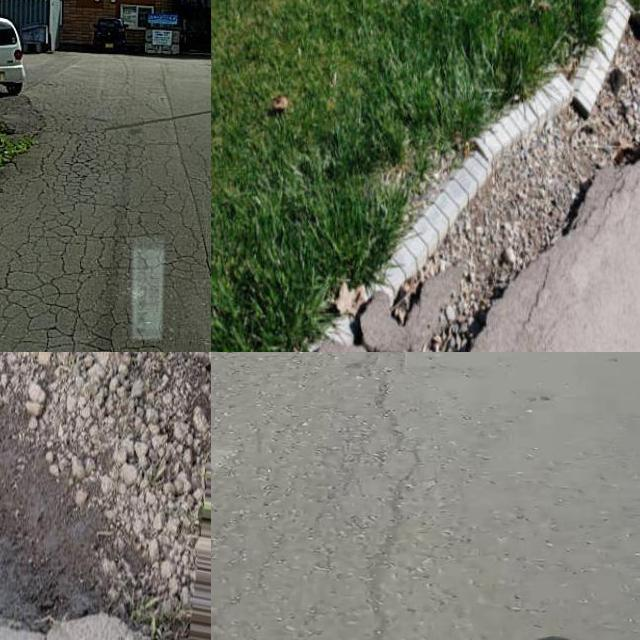Pinggir: (265, 0, 640, 352), (0, 365, 151, 640)
Retak Buaya: (0, 120, 211, 352)
